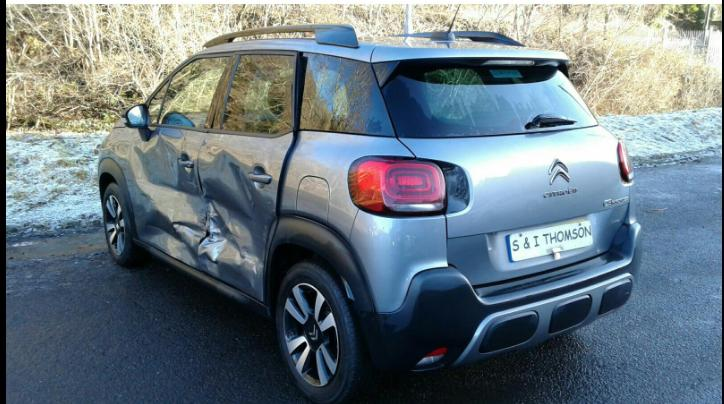Back-bumper: (358, 222, 642, 373)
Back-door: (198, 127, 296, 302), (213, 51, 297, 129), (291, 51, 298, 128)
Back-wheel: (276, 258, 382, 403)
Back-window: (298, 53, 395, 136), (221, 55, 293, 134)
Back-windshield: (381, 63, 599, 137)
Fender: (98, 128, 135, 181)
Front-bumper: (98, 159, 138, 237)
Front-door: (126, 124, 209, 269), (145, 52, 236, 106), (203, 52, 236, 130)
Front-wheel: (103, 183, 152, 267)
Front-window: (147, 57, 230, 128)
License-plate: (509, 220, 593, 260)
Mirror: (121, 104, 151, 140)
Quarter-panel: (266, 130, 448, 311)
Rocker-panel: (132, 238, 273, 321)
Roof: (196, 32, 505, 63)
Tail-light: (348, 157, 447, 216), (618, 142, 634, 183)
Trunk: (398, 124, 629, 287), (371, 42, 569, 87)
